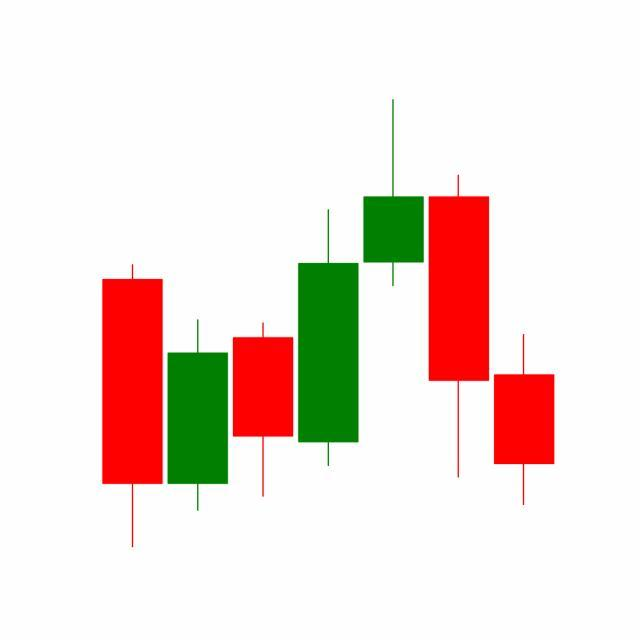Evening Star: (295, 100, 492, 484)
